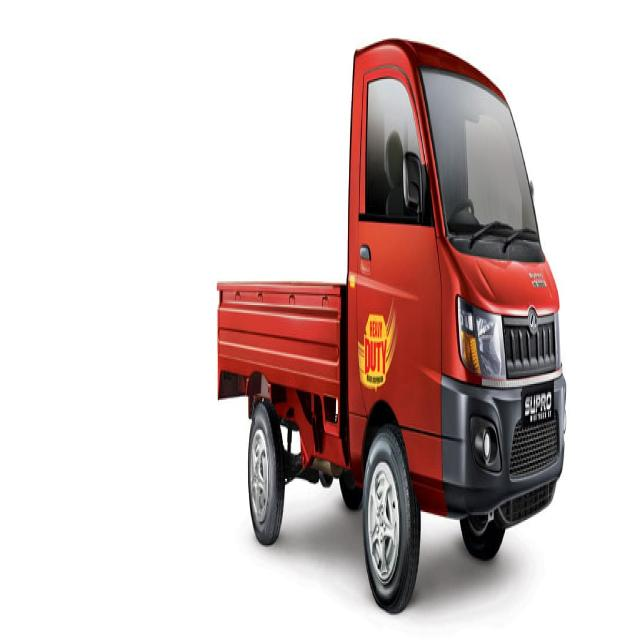truck: (218, 40, 565, 613)
